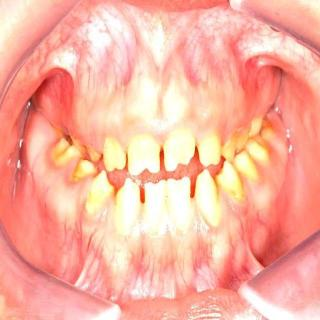Gum Swelling: (31, 139, 241, 300), (66, 66, 217, 153)
